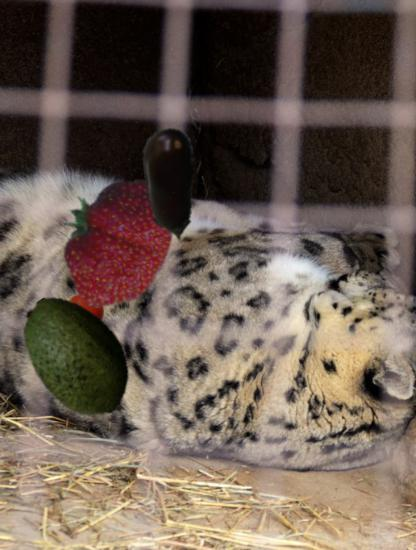Avocado: (10, 289, 144, 423)
Eggplant: (112, 125, 231, 244)
Nectarine: (45, 292, 110, 357)
Strawberry: (47, 175, 183, 311)
